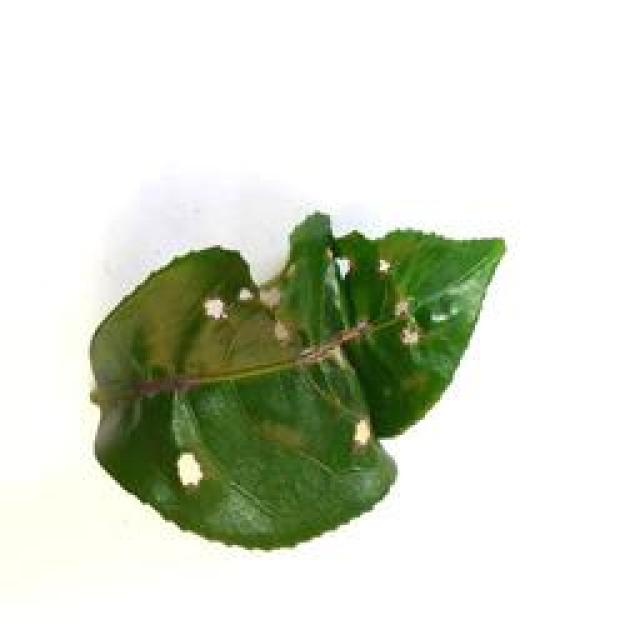Helopeltis: (85, 205, 509, 560)
